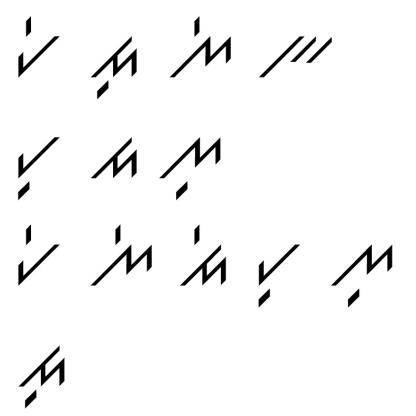da: (87, 133, 141, 182)
de: (178, 220, 232, 290)
du: (11, 338, 77, 409), (86, 31, 141, 101)
ne: (161, 14, 237, 83), (83, 224, 154, 295)
nu: (326, 233, 396, 311), (155, 130, 226, 202)
pe: (11, 222, 63, 286), (14, 12, 61, 80)
pu: (249, 235, 301, 312), (11, 130, 65, 201)
